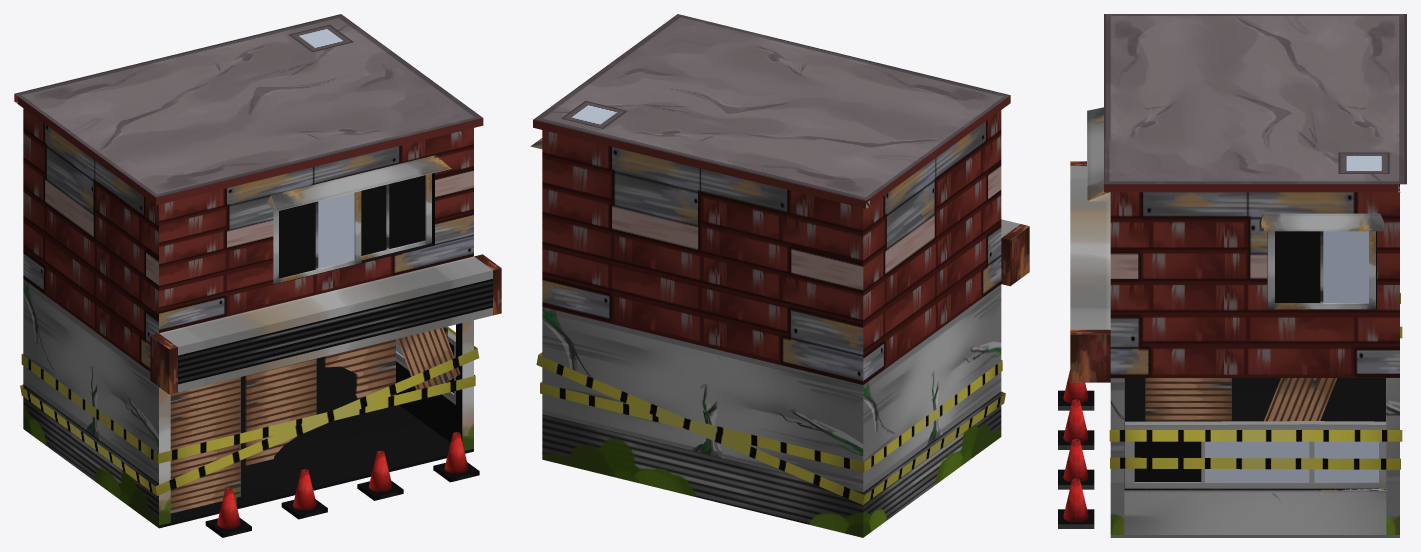
Rendered from House.fbx.
3 views of the same model, side by side, from view 1: azimuth 30°, elevation 25°; view 2: azimuth 150°, elevation 25°; view 3: azimuth 270°, elevation 25° (orthographic). The views are drawn at different scales.
Visible parts, largest first — view 1: HouseNoAccess; view 2: HouseNoAccess; view 3: HouseNoAccess.
Part boxes in pixels (x1=…): HouseNoAccess: x1=14, y1=14, x2=501, y2=537; HouseNoAccess: x1=530, y1=14, x2=1029, y2=537; HouseNoAccess: x1=1058, y1=14, x2=1406, y2=537.
Size of the model in its own units: 730 by 681 by 602.
